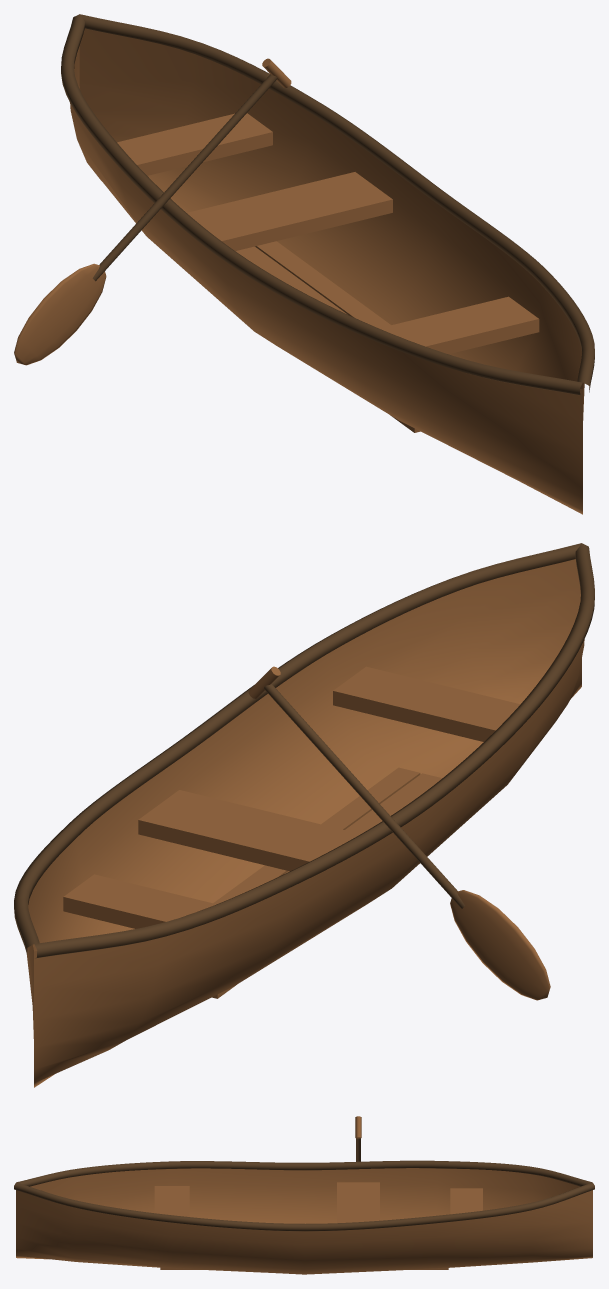
File: canoe.glb
The picture shows the model from 3 angles, top to bottom: view 1: azimuth 30°, elevation 25°; view 2: azimuth 150°, elevation 25°; view 3: azimuth 270°, elevation 25°; orthographic projection. The views are drawn at different scales.
Visible parts, largest first — view 1: canoe, canoe.single-blade, kayak.paddle; view 2: canoe, canoe.single-blade, kayak.paddle; view 3: canoe, kayak.paddle.
Boxes of the visible parts, <box> form: canoe: <box>61,14,594,514</box>; canoe.single-blade: <box>14,263,106,365</box>; kayak.paddle: <box>92,58,291,281</box>; canoe: <box>14,543,594,1087</box>; canoe.single-blade: <box>450,890,550,1000</box>; kayak.paddle: <box>248,666,464,908</box>; canoe: <box>14,1160,594,1274</box>; kayak.paddle: <box>355,1116,361,1161</box>.
Bounding box in the file's own units: 2.12 × 1.36 × 4.83.
